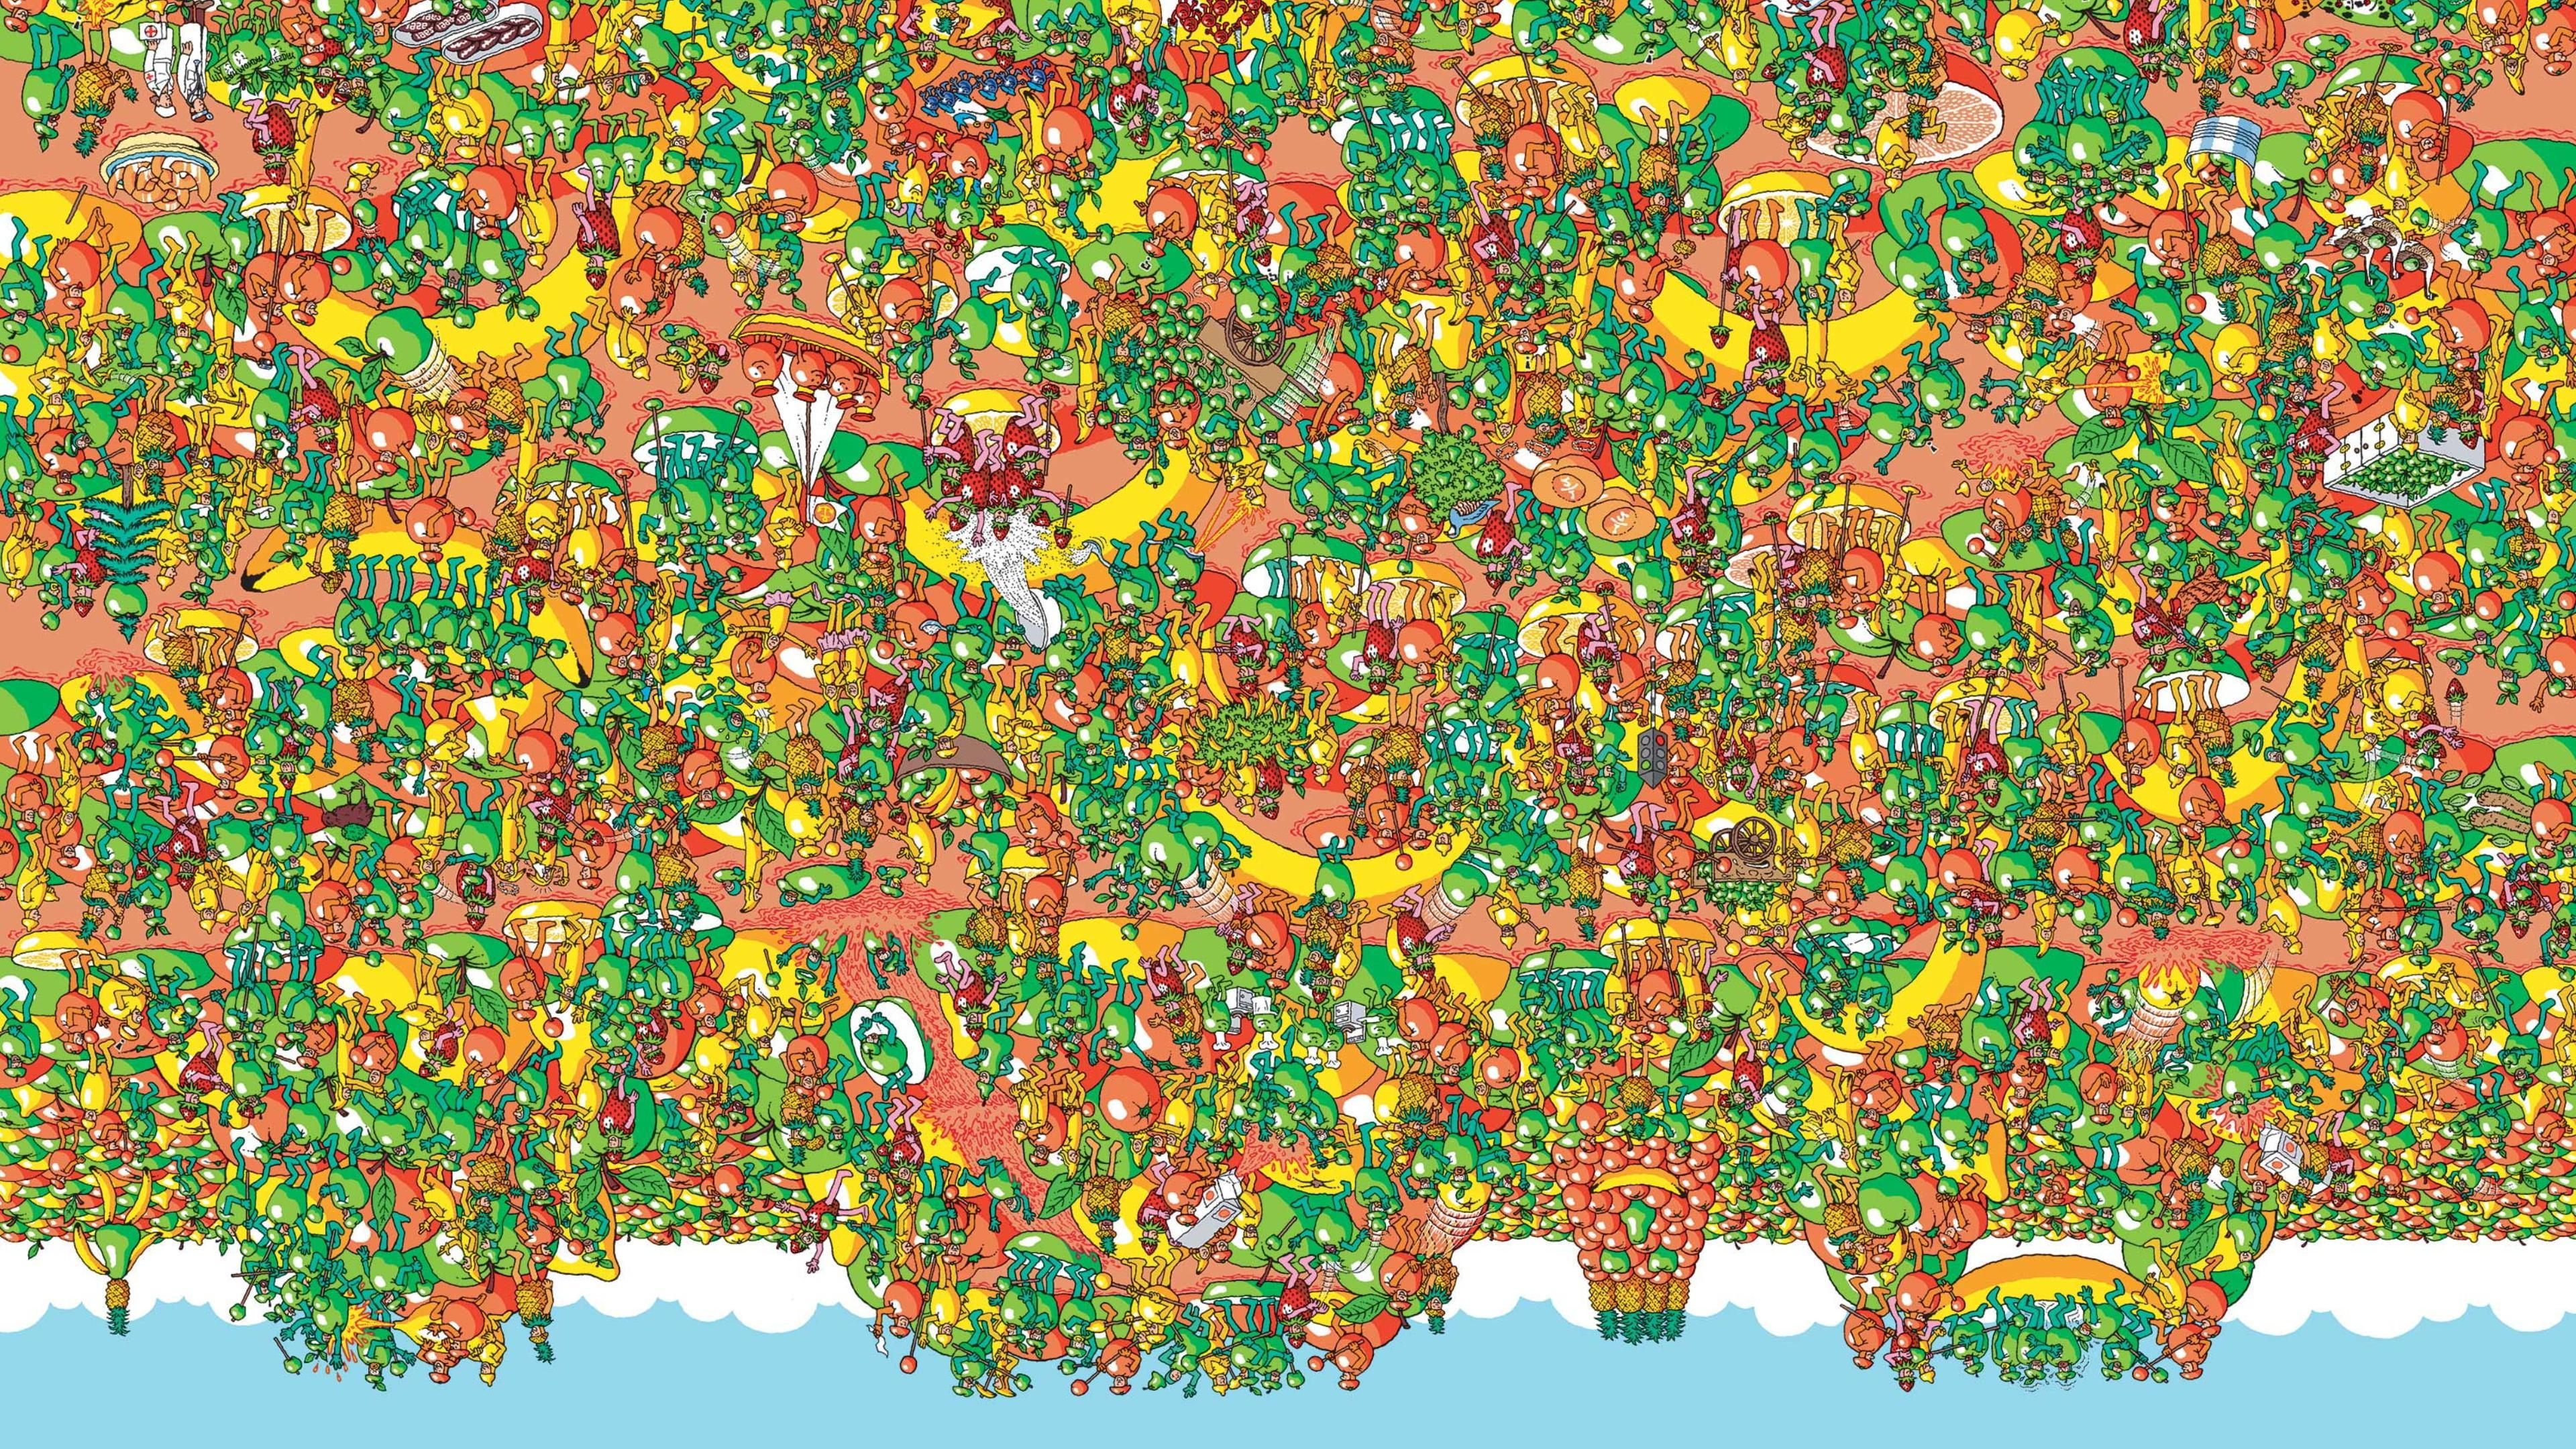waldos: (2284, 380, 2307, 410)
